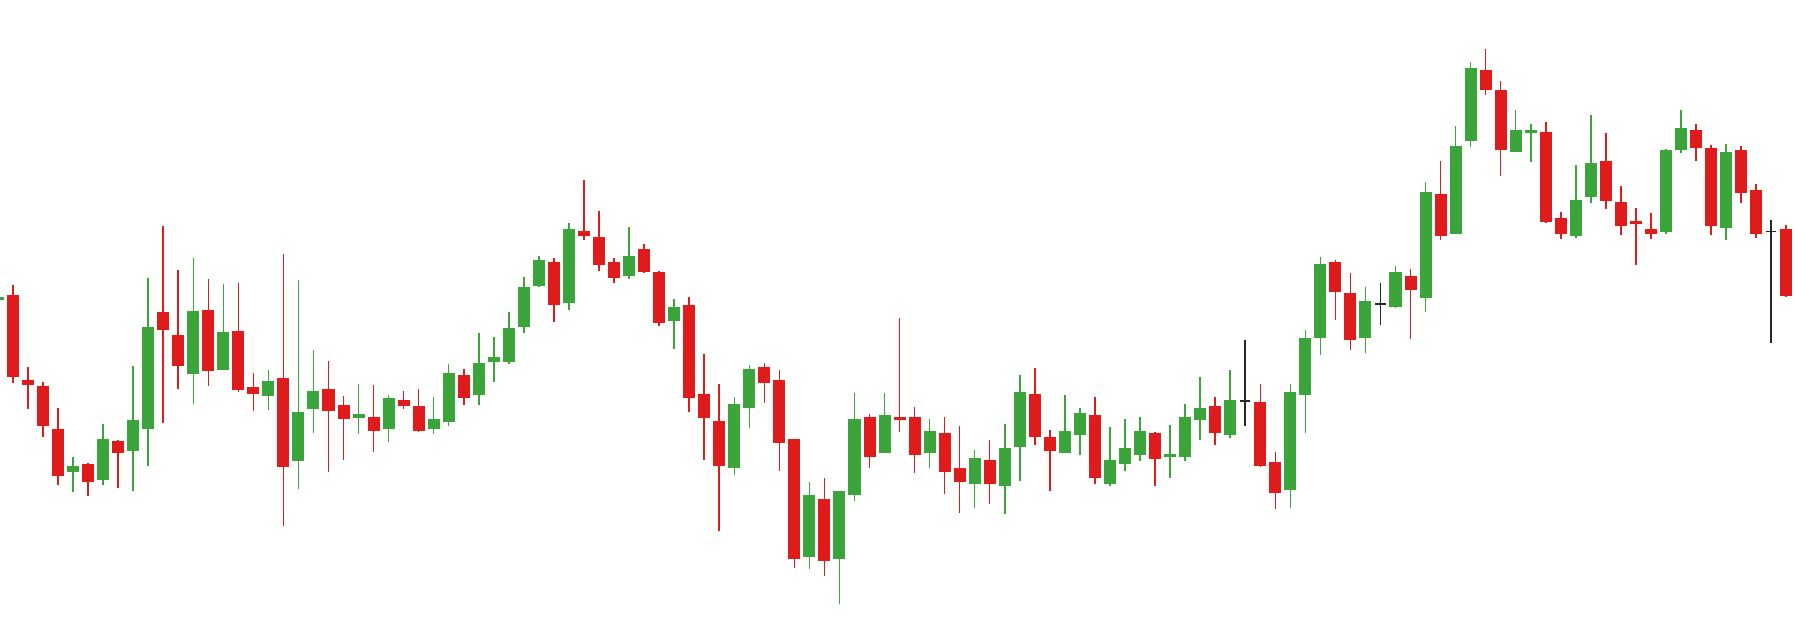buy: (710, 420, 816, 583), (1149, 420, 1300, 509)
sell: (1583, 111, 1702, 201)
